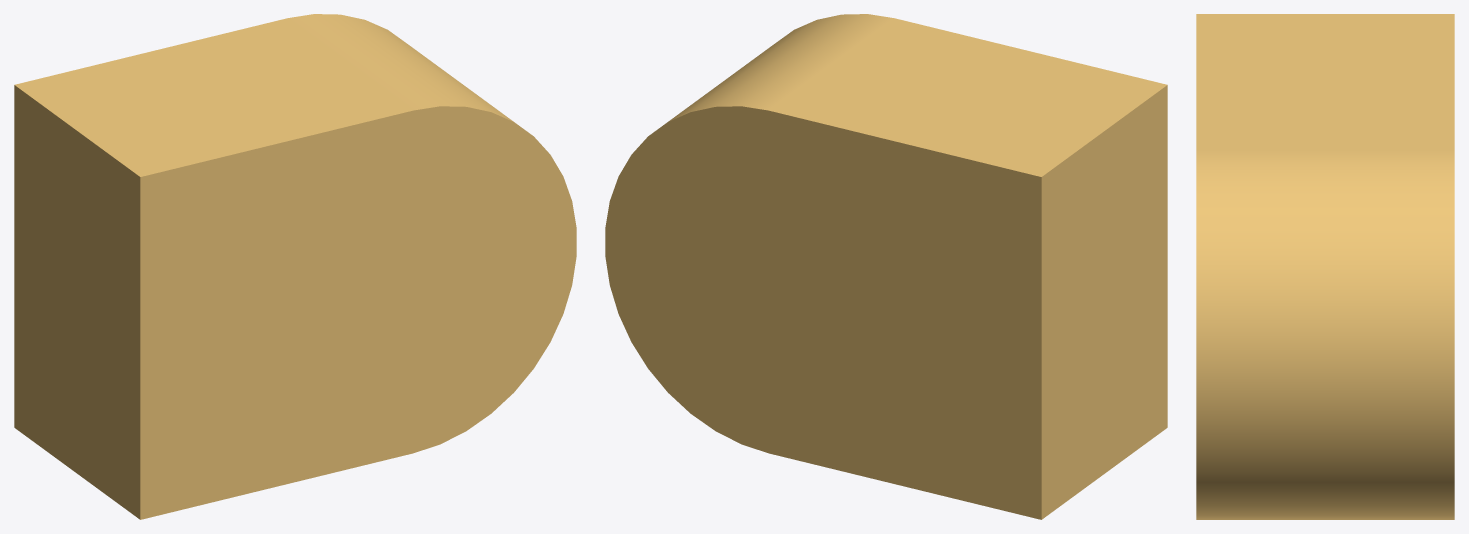
File: AND.obj
The picture shows the model from 3 angles, left to right: view 1: azimuth 30°, elevation 25°; view 2: azimuth 150°, elevation 25°; view 3: azimuth 270°, elevation 25°; orthographic projection. The views are drawn at different scales.
Visible parts, largest first — view 1: Body1; view 2: Body1; view 3: Body1.
Part boxes in pixels (x1,y1,x2,y2): Body1: (14,14,576,519); Body1: (605,14,1167,519); Body1: (1196,14,1454,519).
Bounding box in the file's own units: 3.99 × 3 × 2.
